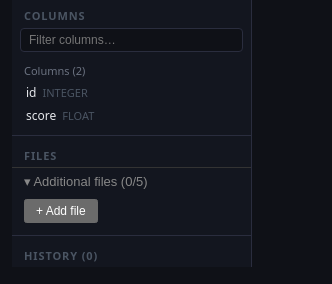
Test: Sidebar › typing in filter input hides non-matching columns
In the field with placeholder "Filter columns…": (132, 40) [20,28,243,52], type "sc"
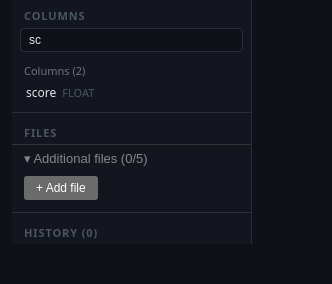
Expected: the text "score" is shown, [26,84,56,101]
Result: the text "id" is gone
